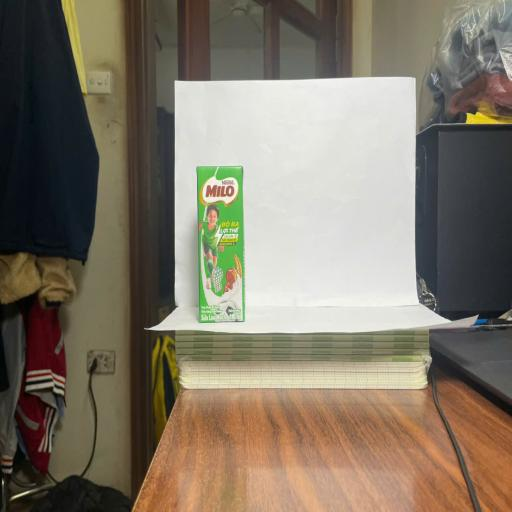milo: (197, 166, 244, 324)
